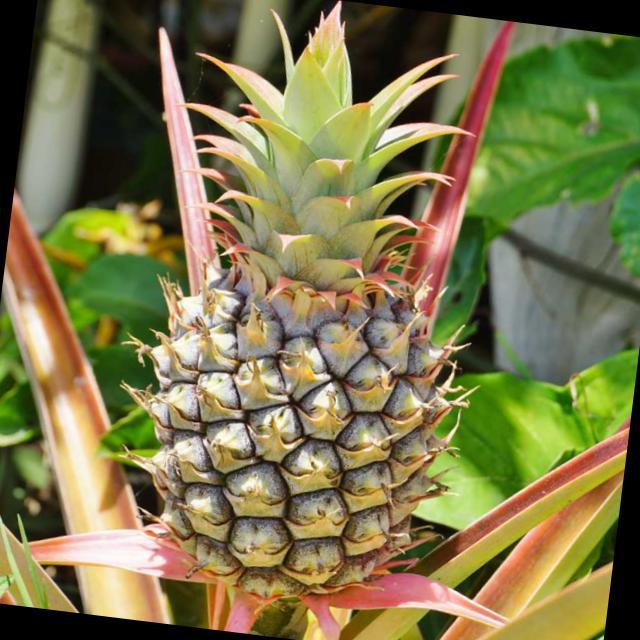PINEAPLE: (133, 1, 514, 618)
